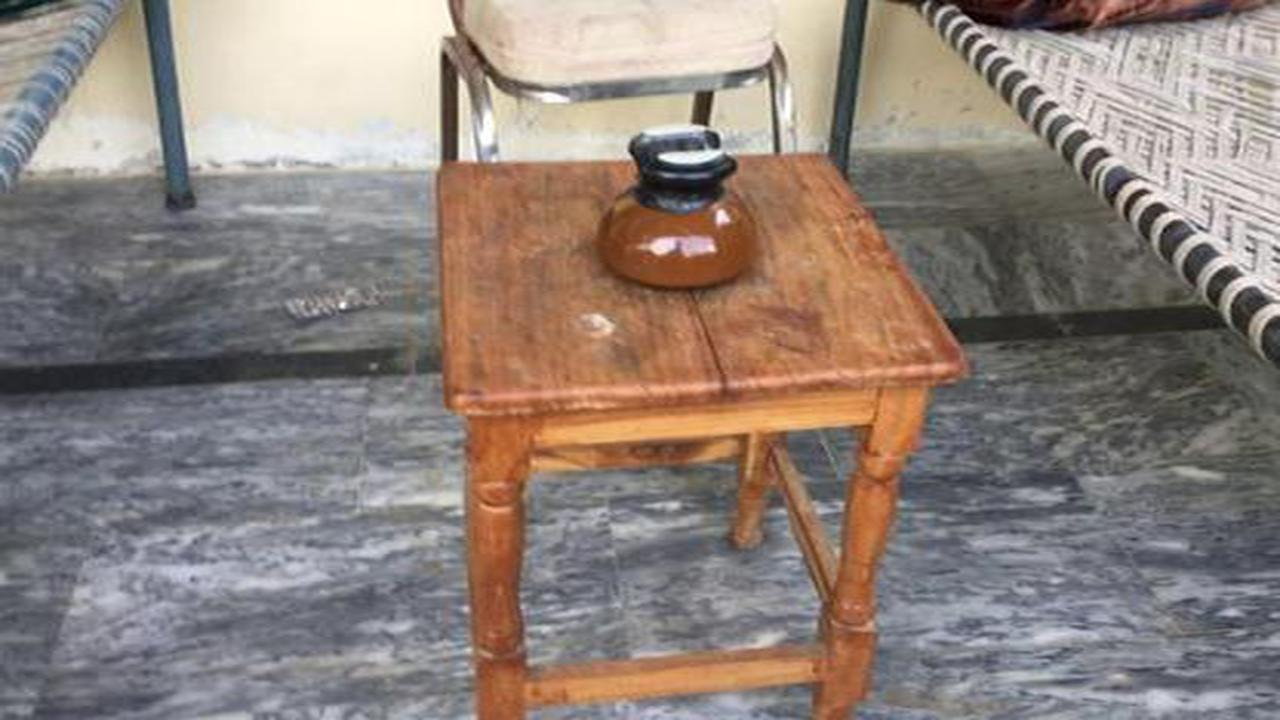insulator_pin: (579, 111, 767, 302)
